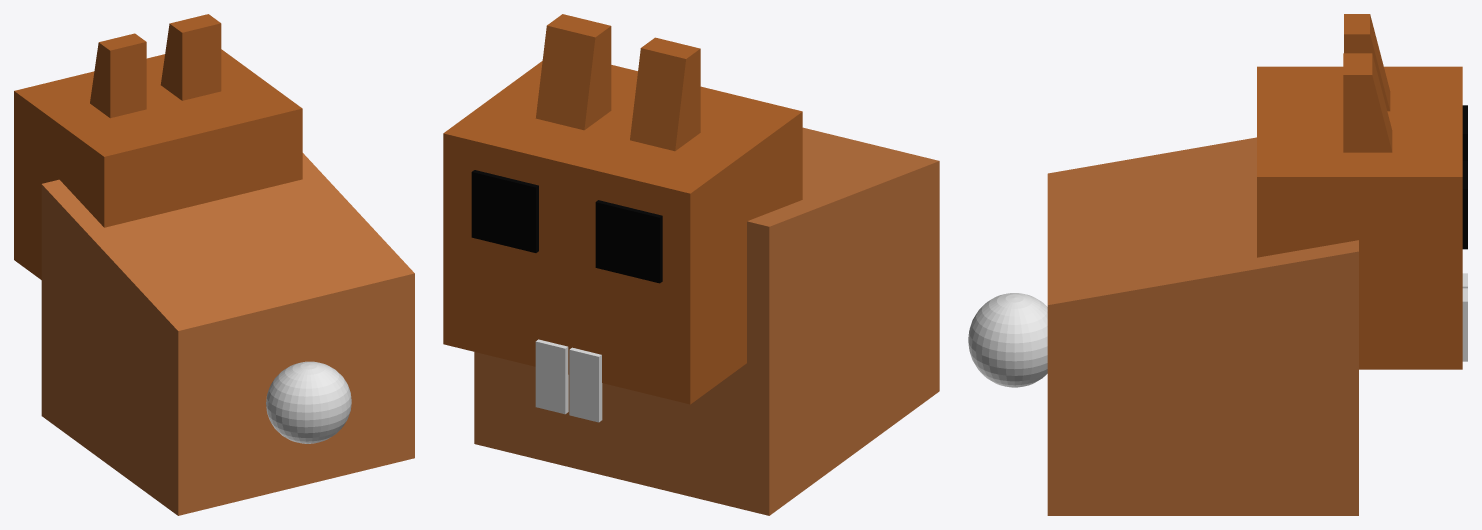
Rendered from polyrabbit.glb.
3 renders of one model, left to right at view 1: azimuth 30°, elevation 25°; view 2: azimuth 150°, elevation 25°; view 3: azimuth 270°, elevation 25°, orthographic. The views are drawn at different scales.
Visible parts, largest first — view 1: Cube, Cube.001, Sphere; view 2: Cube.001, Cube, Cube.002, Cube.003, Cube.005, Cube.004; view 3: Cube, Cube.001, Sphere.
Boxes of the visible parts, x1,y1,x2,y2 form: Cube: (41, 153, 414, 515); Cube.001: (14, 14, 302, 279); Sphere: (266, 361, 351, 443); Cube.001: (443, 14, 802, 404); Cube: (474, 127, 939, 515); Cube.002: (595, 200, 662, 283); Cube.003: (471, 170, 538, 252); Cube.005: (535, 339, 568, 414); Cube.004: (569, 347, 602, 422); Cube: (1047, 137, 1358, 515); Cube.001: (1257, 14, 1462, 369); Sphere: (968, 293, 1047, 387).
Size of the model in its own units: 2 by 2.87 by 3.21.
